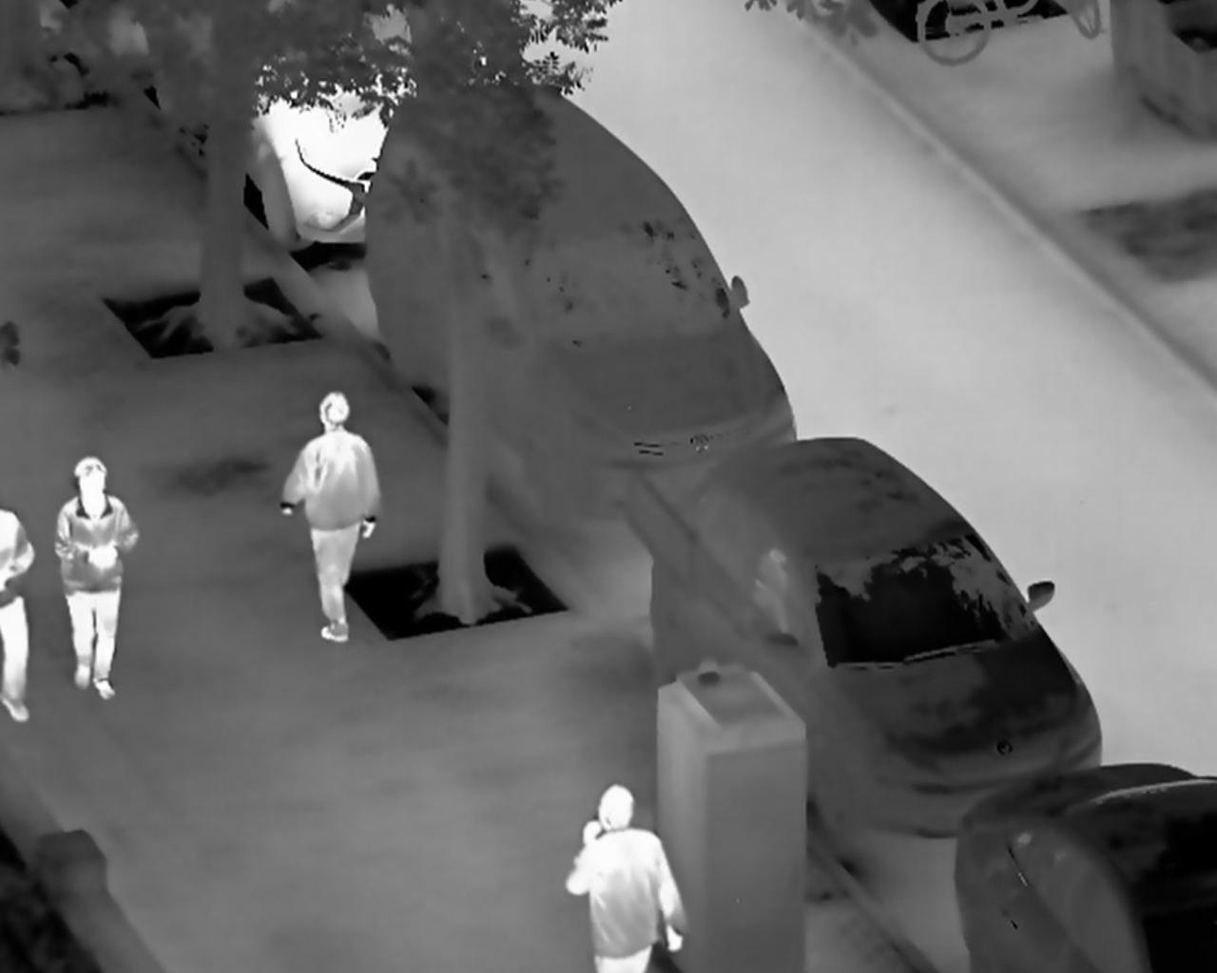person: (281, 391, 384, 647), (563, 778, 687, 973), (53, 455, 141, 705)
